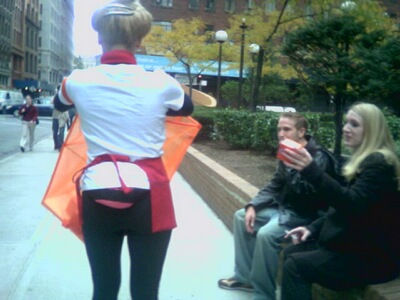without_mask: (341, 106, 375, 150), (274, 112, 307, 152), (24, 95, 34, 106)
